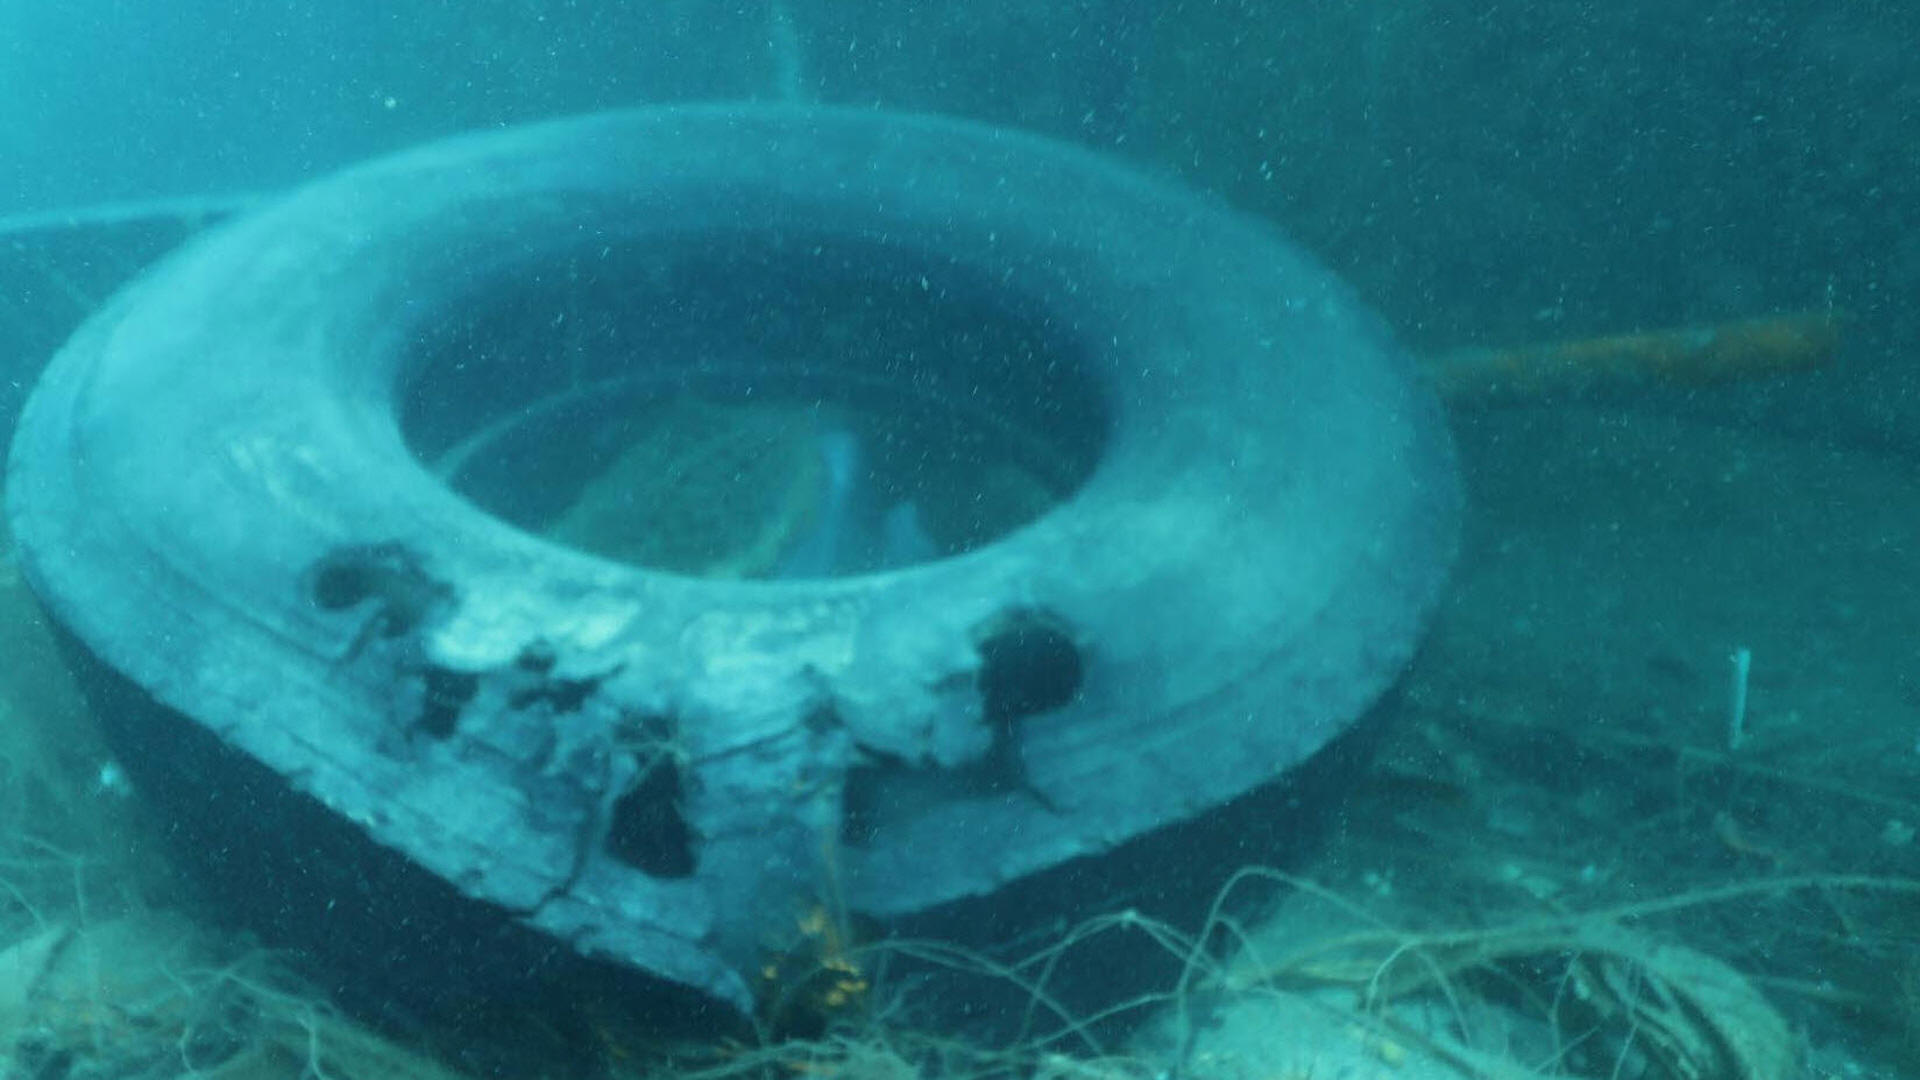tire: (7, 102, 1472, 1080)
